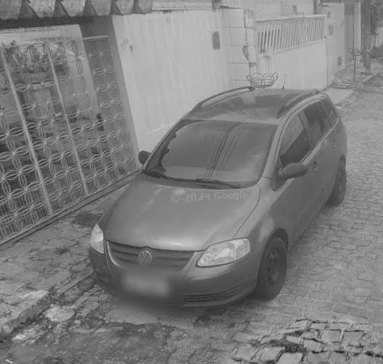car: (88, 73, 349, 314)
